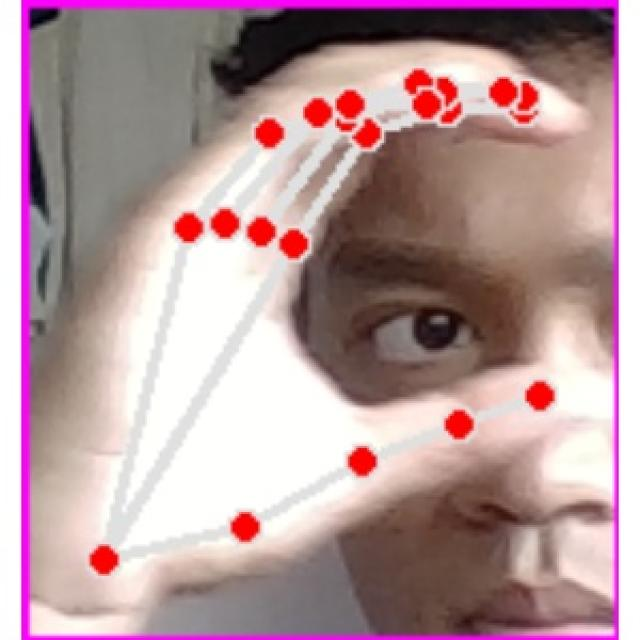C: (42, 34, 585, 626)
